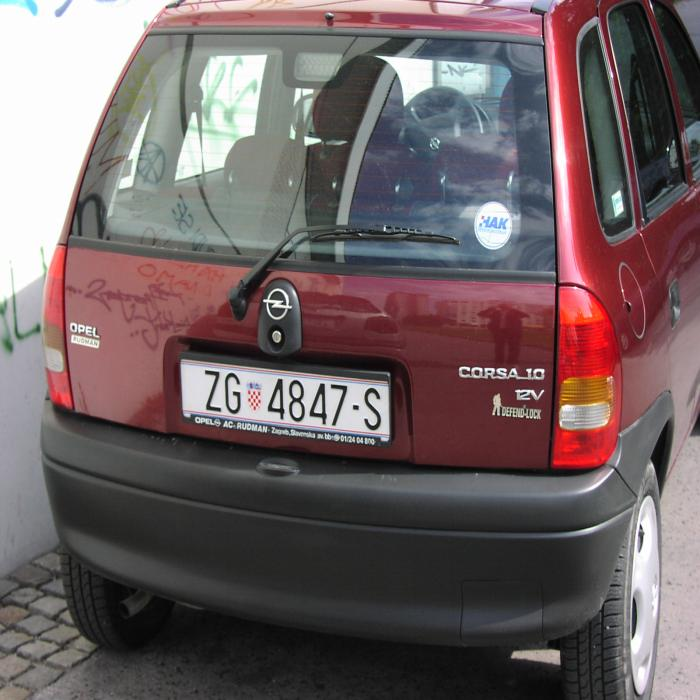number_plate: (181, 362, 387, 432)
